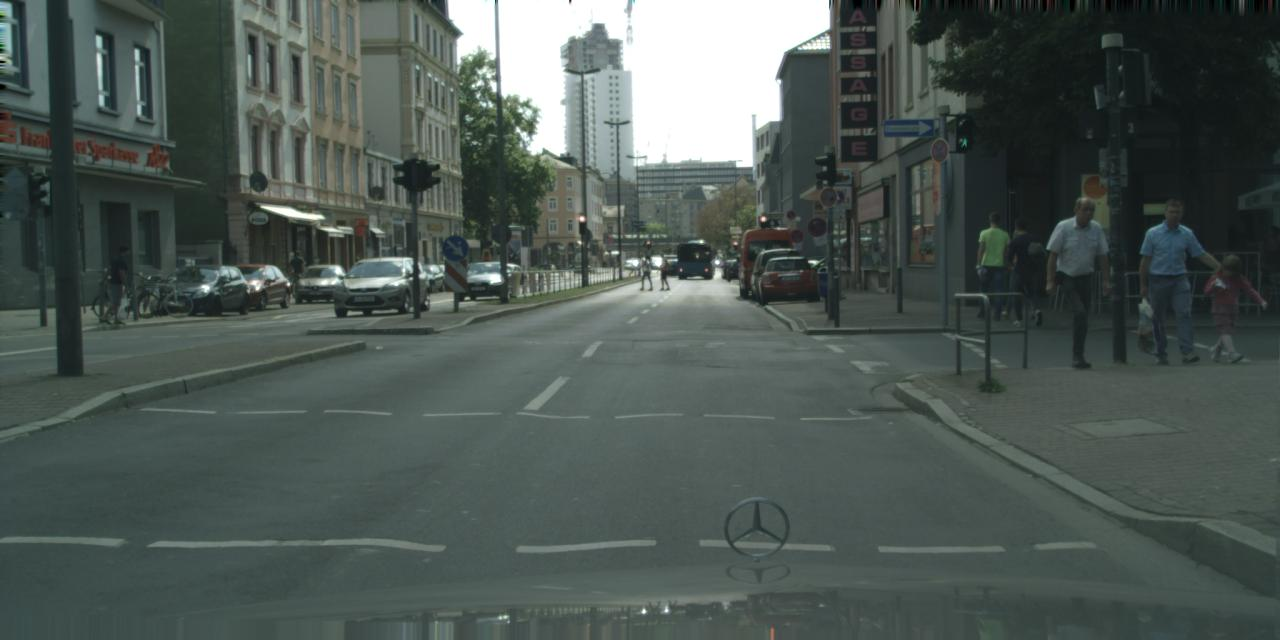ped: (1048, 196, 1118, 368), (1140, 199, 1208, 363), (1205, 254, 1249, 362), (970, 212, 1014, 319), (1004, 222, 1046, 328), (1001, 228, 1036, 318), (101, 246, 133, 324), (287, 250, 305, 296), (655, 252, 670, 289), (638, 254, 653, 289), (349, 257, 363, 292)
